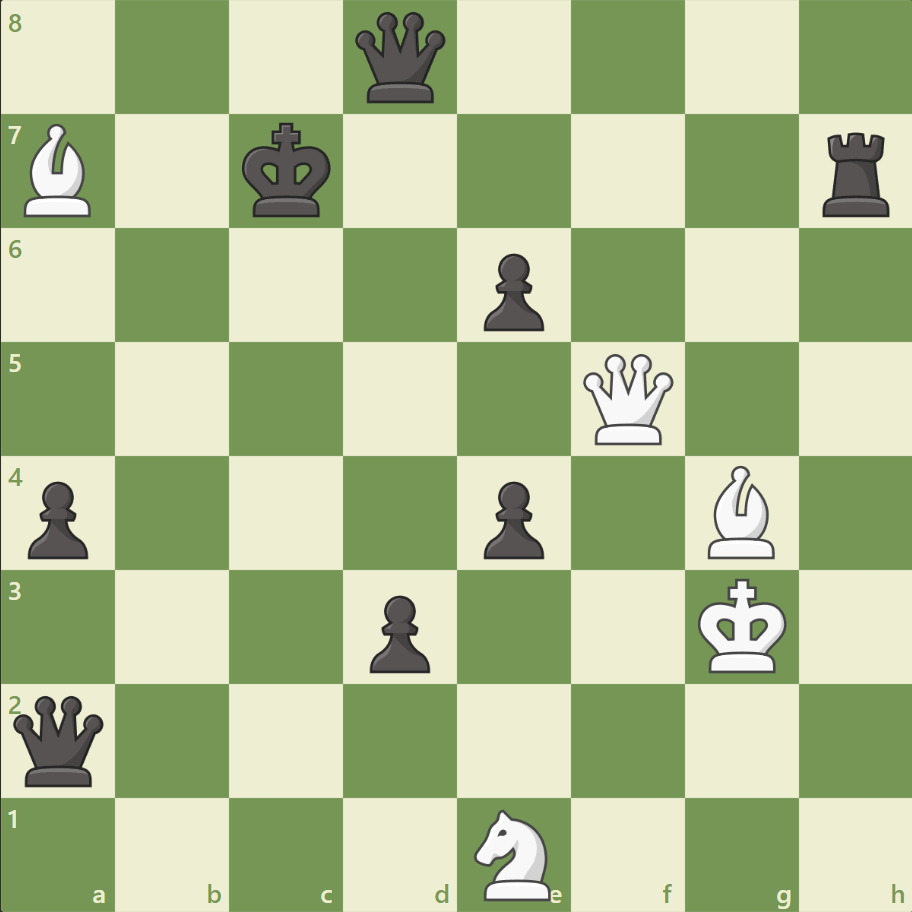B: (698, 460, 782, 563), (17, 120, 101, 222)
K: (692, 571, 792, 679)
N: (465, 802, 562, 904)
Q: (578, 349, 677, 449)
k: (238, 117, 338, 225)
p: (474, 246, 549, 337), (20, 473, 95, 564), (474, 473, 549, 564), (361, 586, 435, 677)
q: (351, 9, 450, 108), (10, 690, 109, 789)
r: (814, 125, 897, 222)
